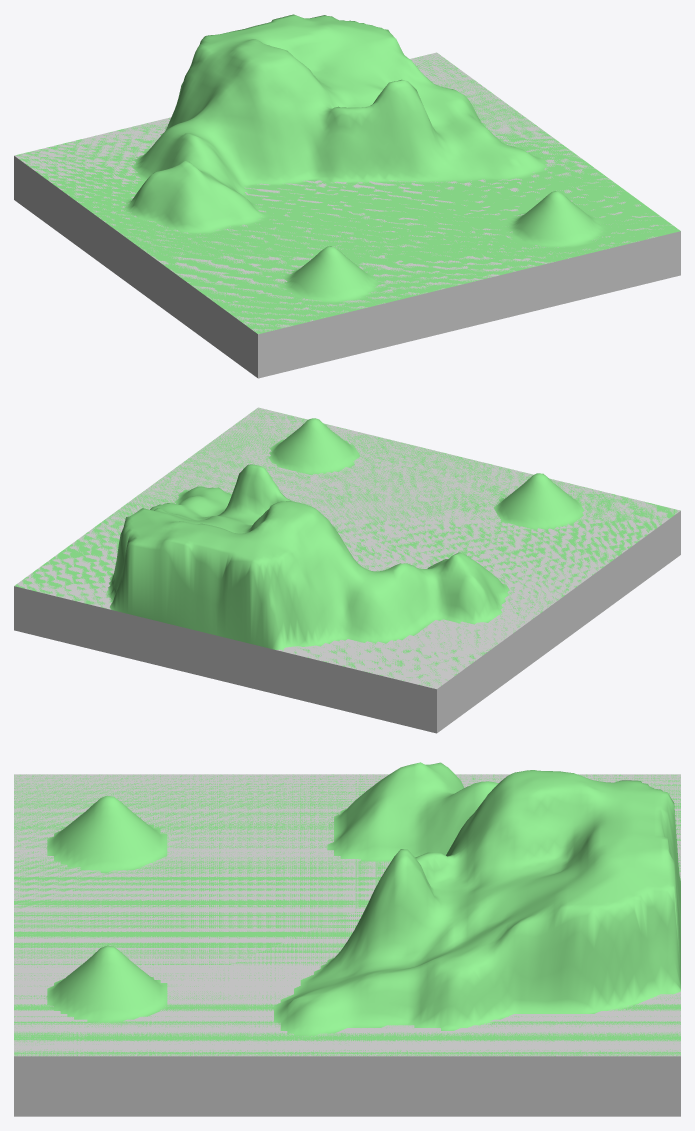
The model's file is map1.dae.
3 views of the same model, one above another, from view 1: azimuth 30°, elevation 25°; view 2: azimuth 150°, elevation 25°; view 3: azimuth 270°, elevation 25° (orthographic). The views are drawn at different scales.
Visible parts, largest first — view 1: group_0, SketchUp; view 2: group_0, SketchUp; view 3: group_0, SketchUp.
Boxes of the visible parts, x1,y1,x2,y2 form: group_0: [15, 14, 680, 333]; SketchUp: [14, 52, 680, 378]; group_0: [14, 408, 680, 687]; SketchUp: [14, 407, 680, 733]; group_0: [14, 762, 680, 1056]; SketchUp: [14, 774, 680, 1116].
Size of the model in its own units: 787 by 787 by 245.
